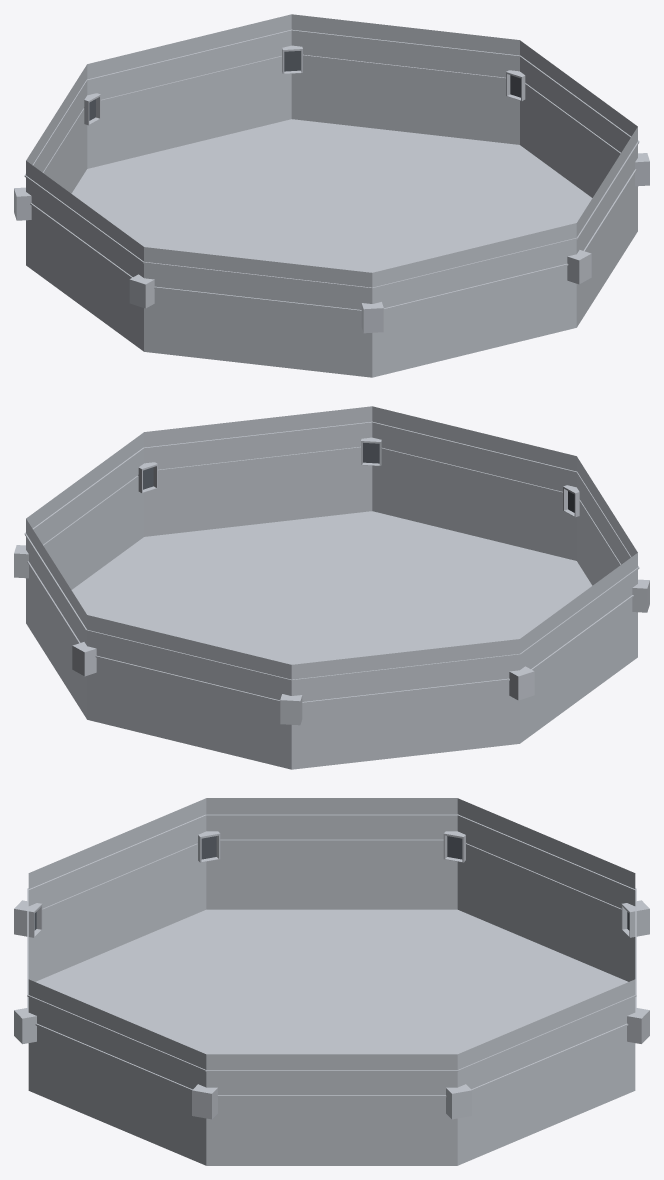
File: Arena.fbx
The picture shows the model from 3 angles, top to bottom: view 1: azimuth 30°, elevation 25°; view 2: azimuth 150°, elevation 25°; view 3: azimuth 270°, elevation 25°; orthographic projection. The views are drawn at different scales.
Parts seen in each view (by area): view 1: Arena_Entries; view 2: Arena_Entries; view 3: Arena_Entries.
Part boxes in pixels (bbox=[...]): Arena_Entries: bbox=[14, 14, 649, 377]; Arena_Entries: bbox=[14, 406, 649, 769]; Arena_Entries: bbox=[14, 798, 649, 1165].
Size of the model in its own units: 5873 by 1136 by 5873.
